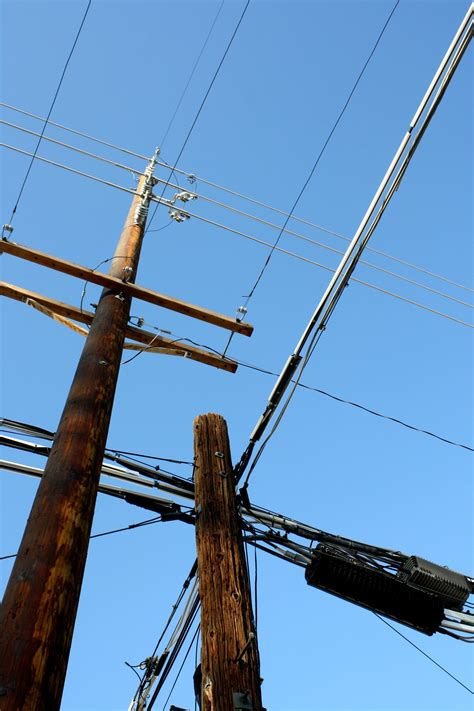pole: (42, 121, 357, 704)
